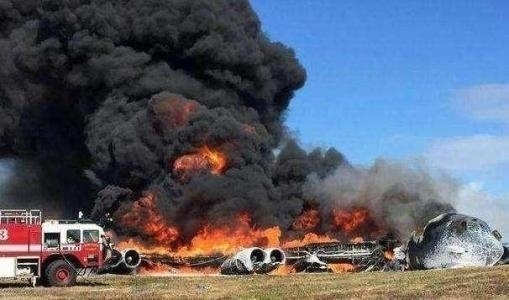fire: (105, 190, 393, 273)
